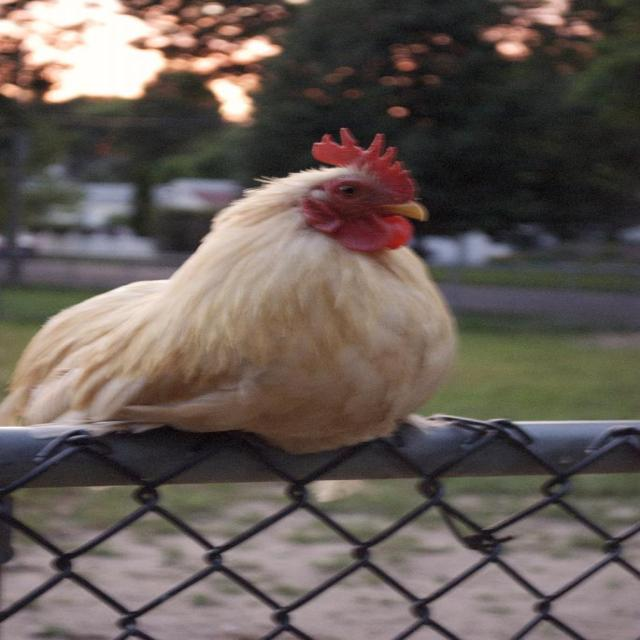Chicken: (0, 128, 459, 454)
